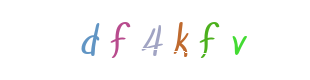4: (114, 0, 194, 80)
D: (51, 0, 131, 80)
F: (78, 0, 158, 80), (141, 0, 221, 80)
K: (116, 0, 196, 80)
V: (180, 0, 260, 80)
